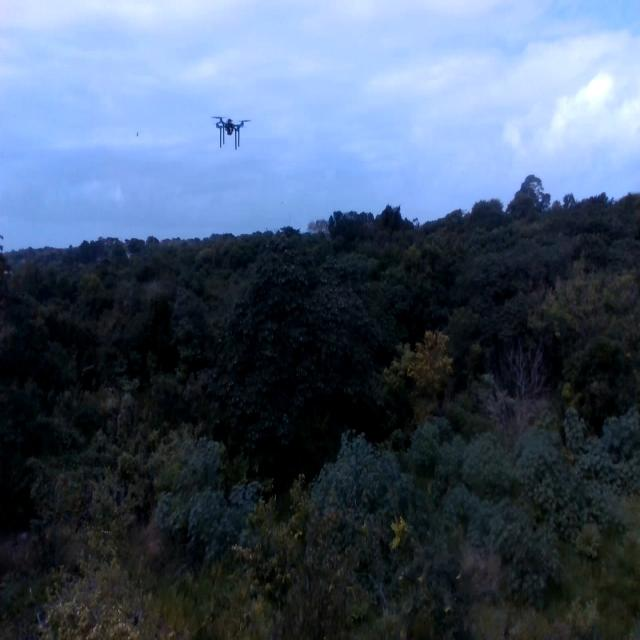-uav-: (210, 99, 252, 159)
